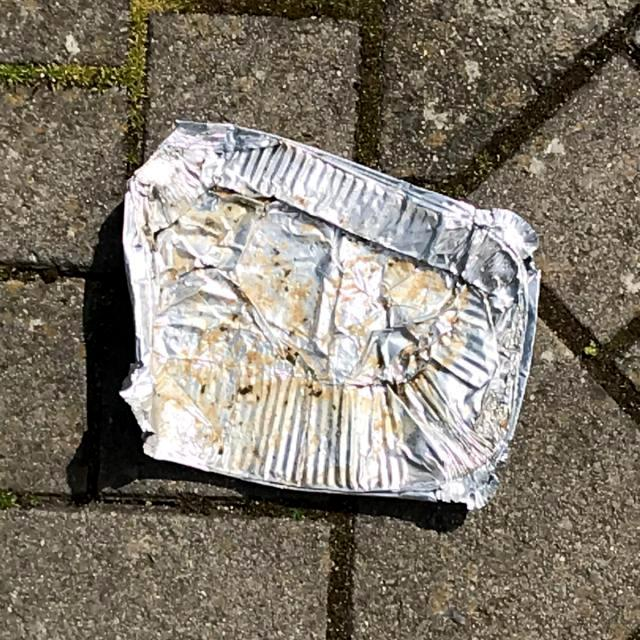Metal: (114, 116, 546, 516)
